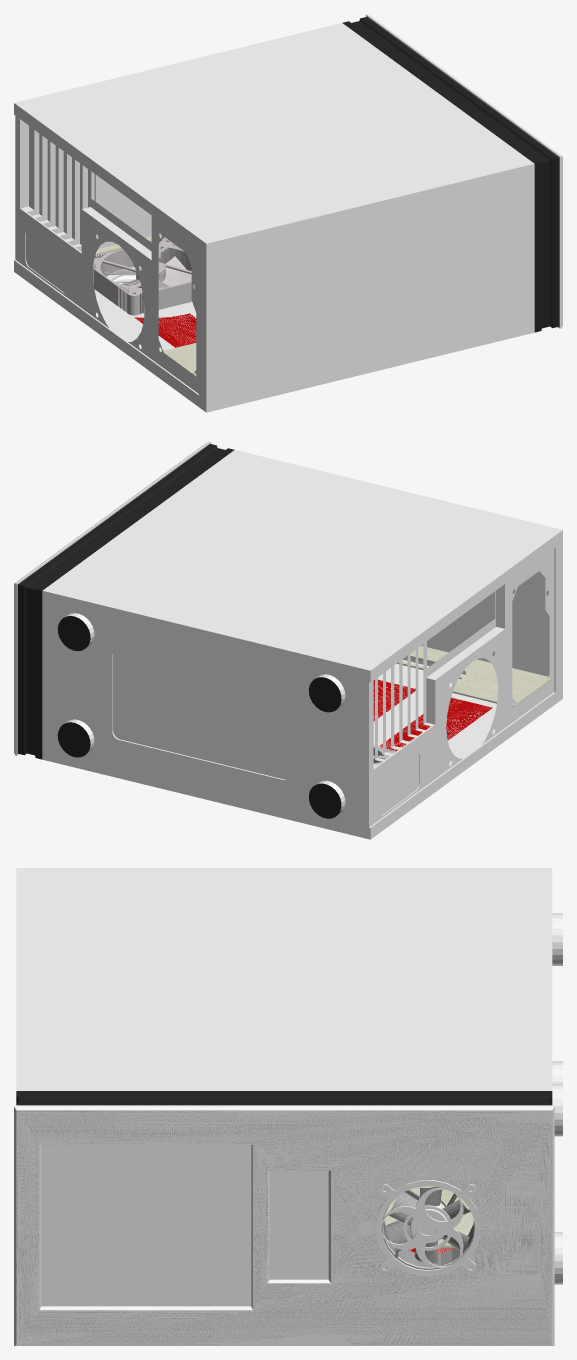
3 views of the same model, one above another, from view 1: azimuth 30°, elevation 25°; view 2: azimuth 150°, elevation 25°; view 3: azimuth 270°, elevation 25° (orthographic). The views are drawn at different scales.
Parts seen in each view (by area): view 1: modding case; view 2: modding case; view 3: modding case.
Part boxes in pixels (x1=…): modding case: x1=14, y1=14, x2=562, y2=412; modding case: x1=14, y1=441, x2=562, y2=839; modding case: x1=14, y1=868, x2=562, y2=1345.
Bounding box in the file's own units: 18.86 × 8.7 × 17.99.
